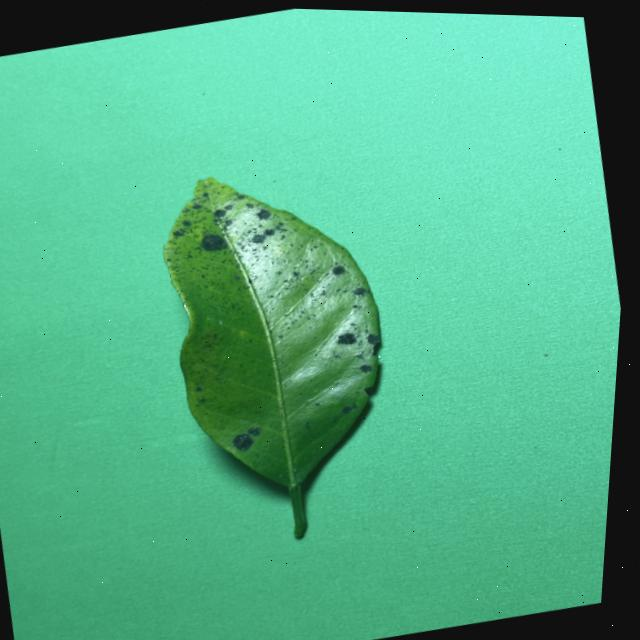sooty_mold: (163, 177, 379, 536)
